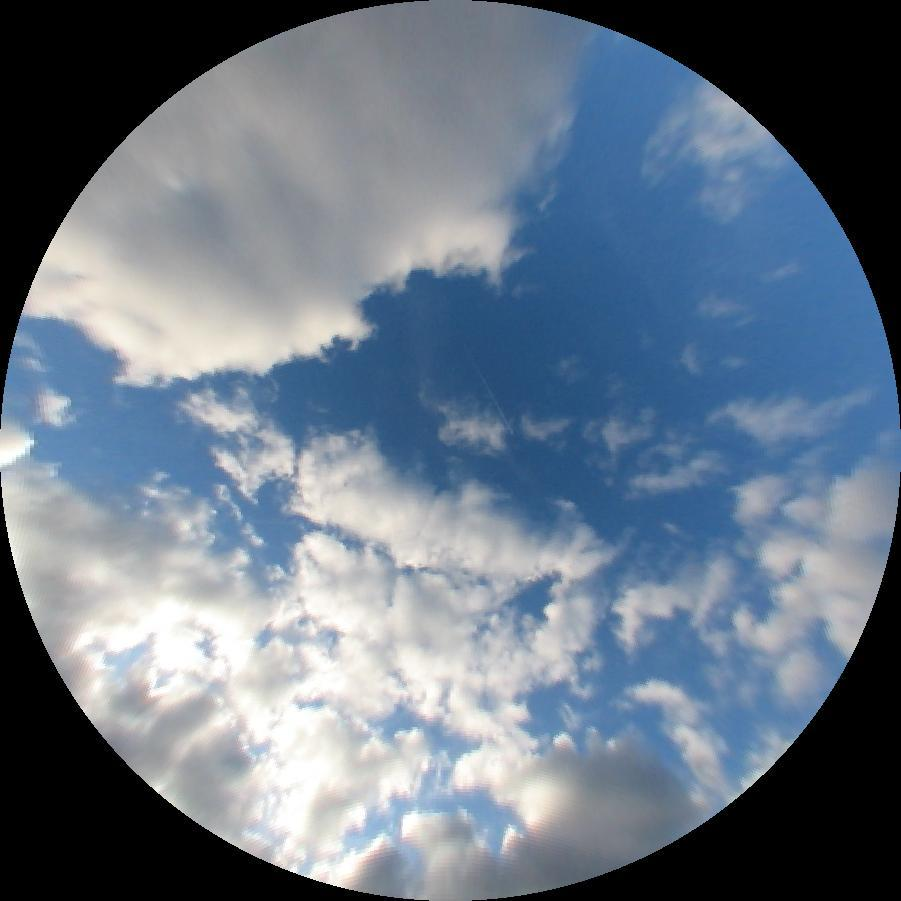contrail young: (450, 319, 514, 435)
